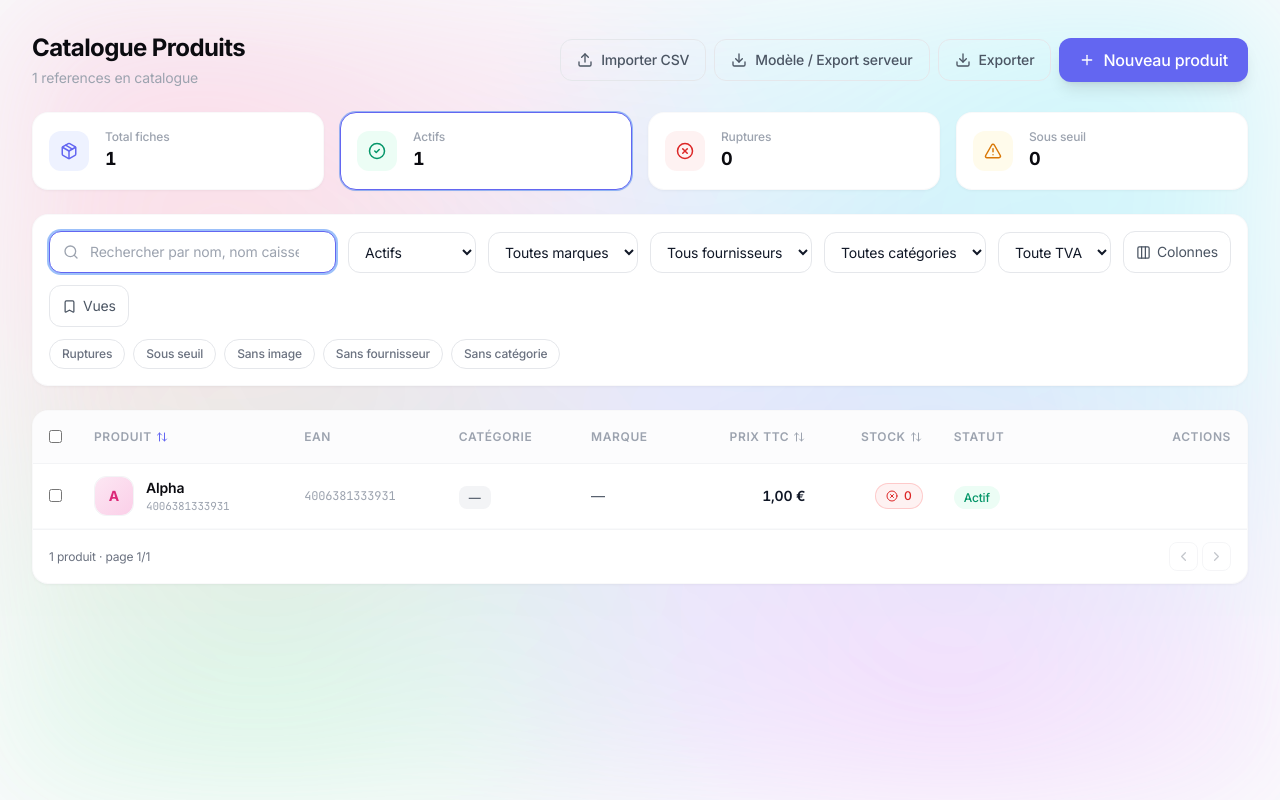
Test: Catalogue — recherche fluide (focus, pas de remount, debounce) › frappe rapide : focus conservé, valeur complète, AUCUN démontage, résultats de la dernière saisie
The image size is (1280, 800).
Type "t" into the field with placeholder "Rechercher par nom, nom caisse, EAN ou SKU..." at (192, 252), box [49, 231, 336, 273]
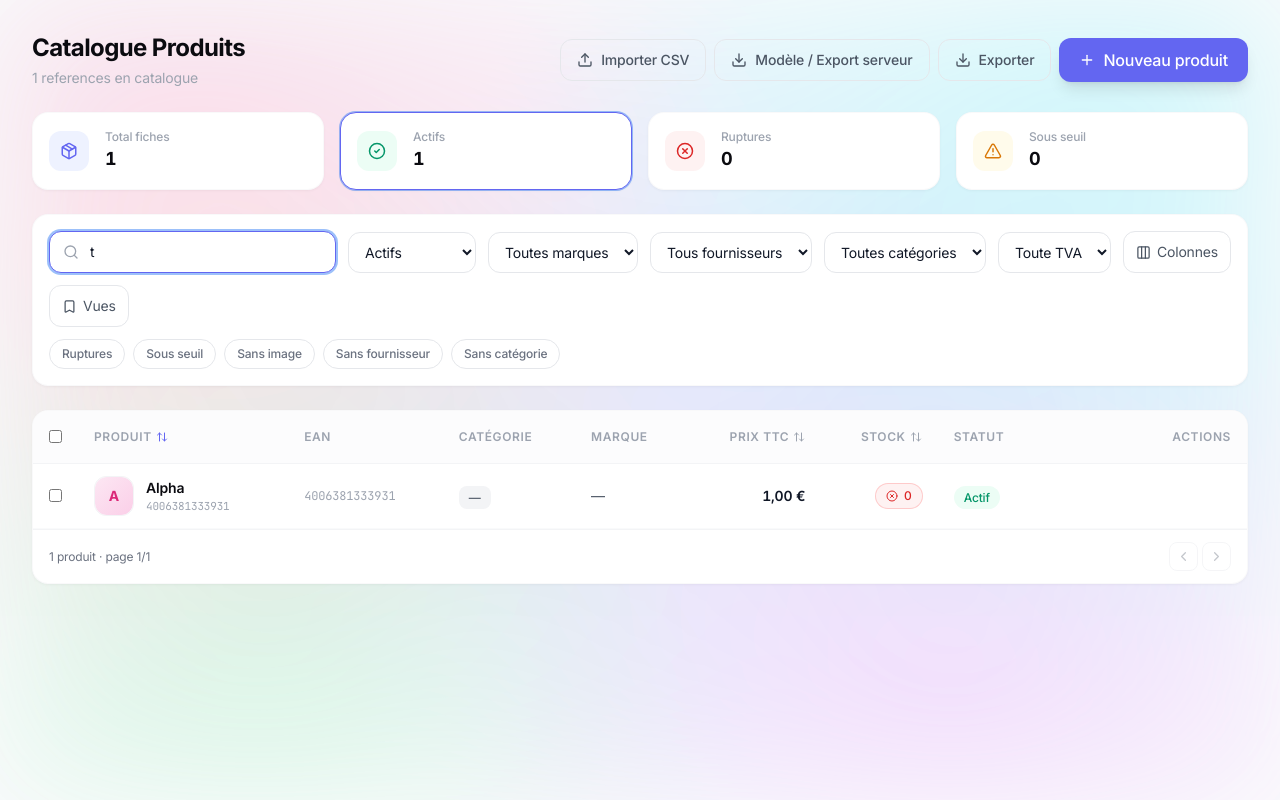
Replace the text in the field with placeholder "Rechercher par nom, nom caisse, EAN ou SKU..." with "te" at (192, 252), box [49, 231, 336, 273]
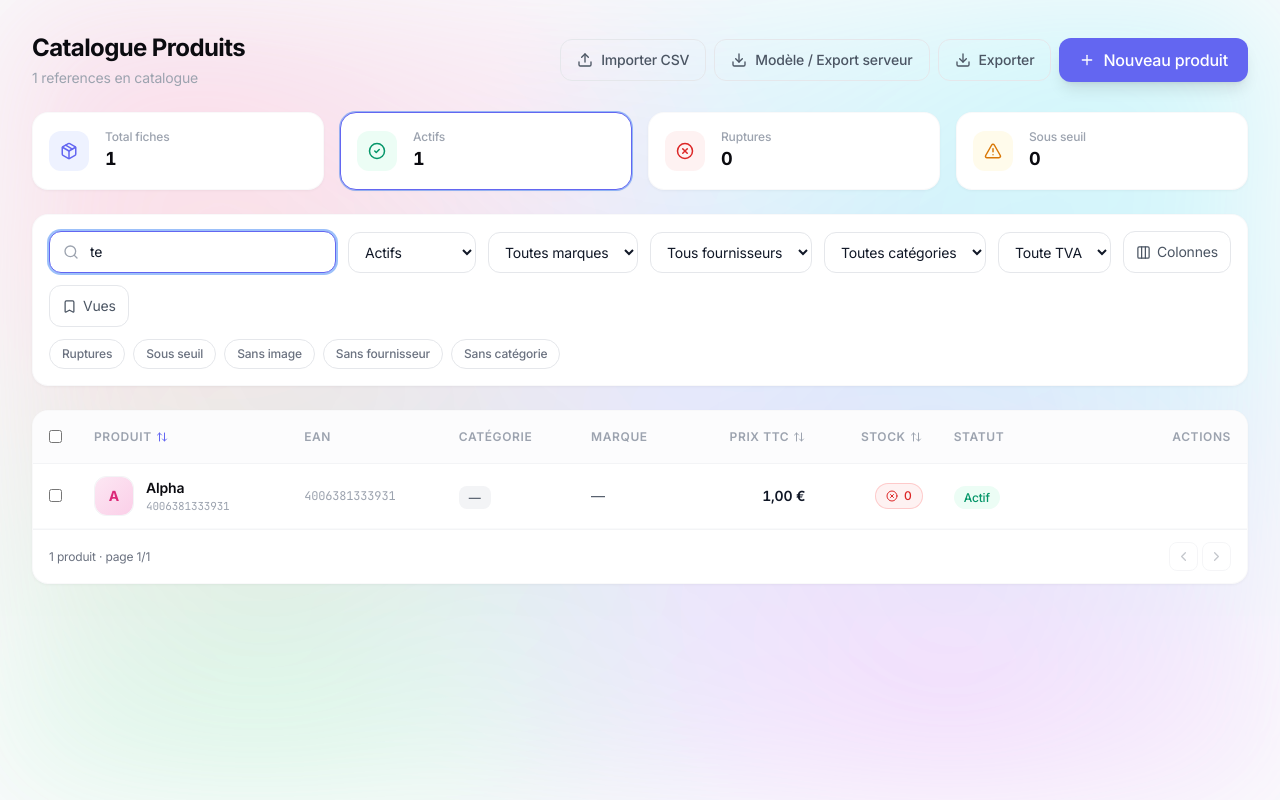
Replace the text in the field with placeholder "Rechercher par nom, nom caisse, EAN ou SKU..." with "tes" at (192, 252), box [49, 231, 336, 273]
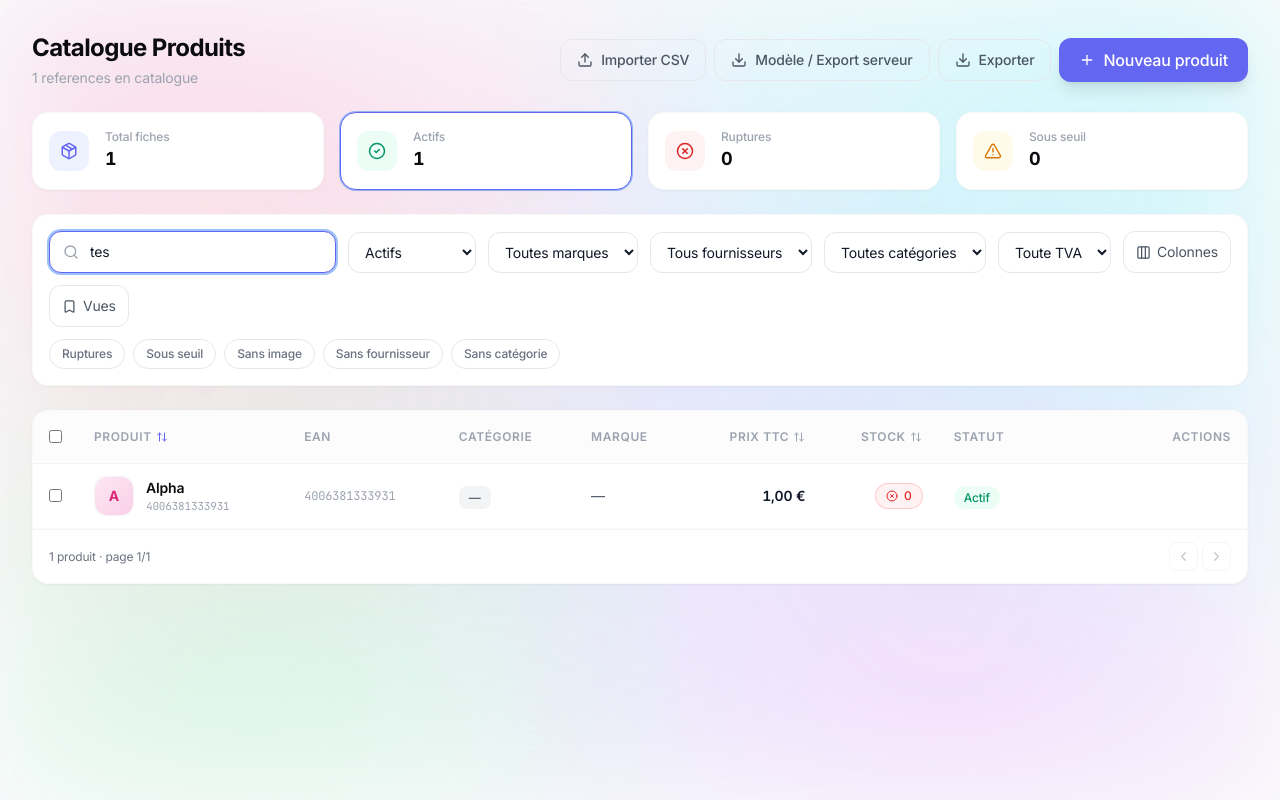
Replace the text in the field with placeholder "Rechercher par nom, nom caisse, EAN ou SKU..." with "test" at (192, 252), box [49, 231, 336, 273]
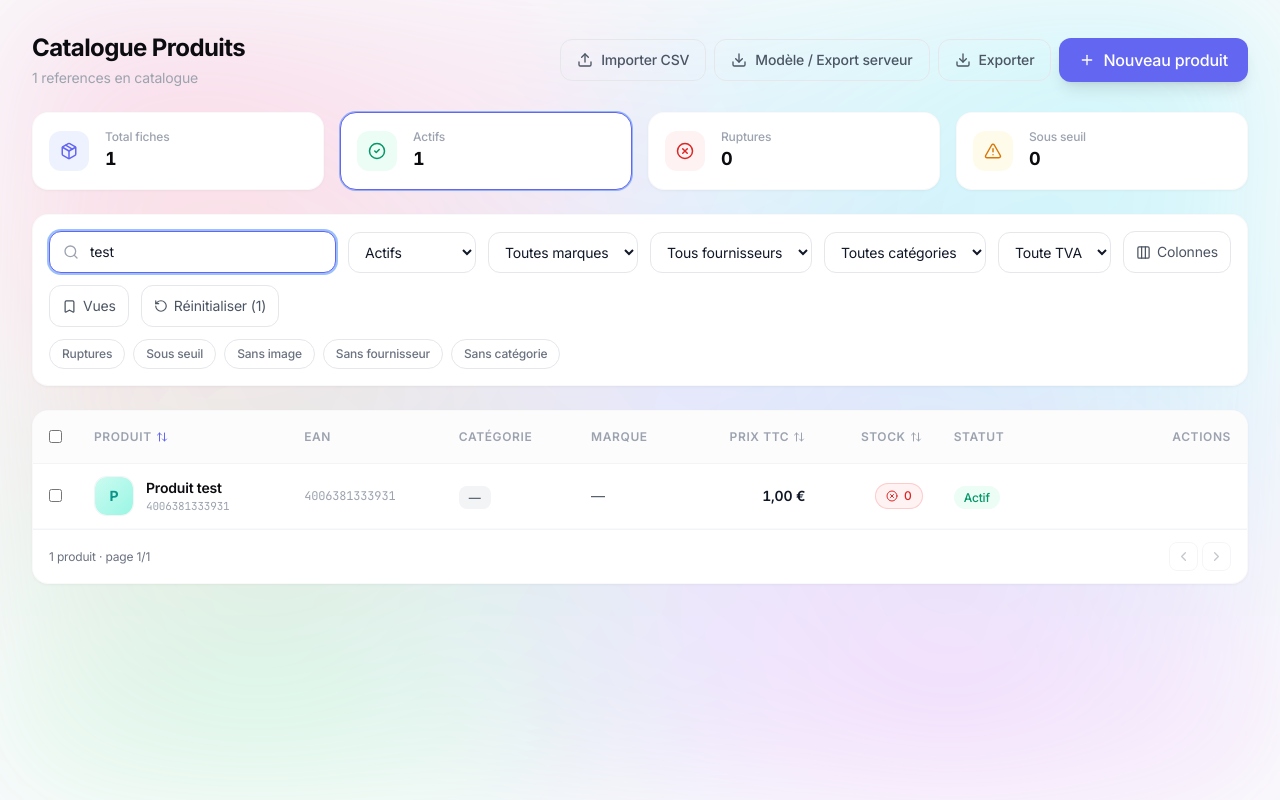
Expected: the text "Produit test" is shown, [146, 478, 230, 498]
